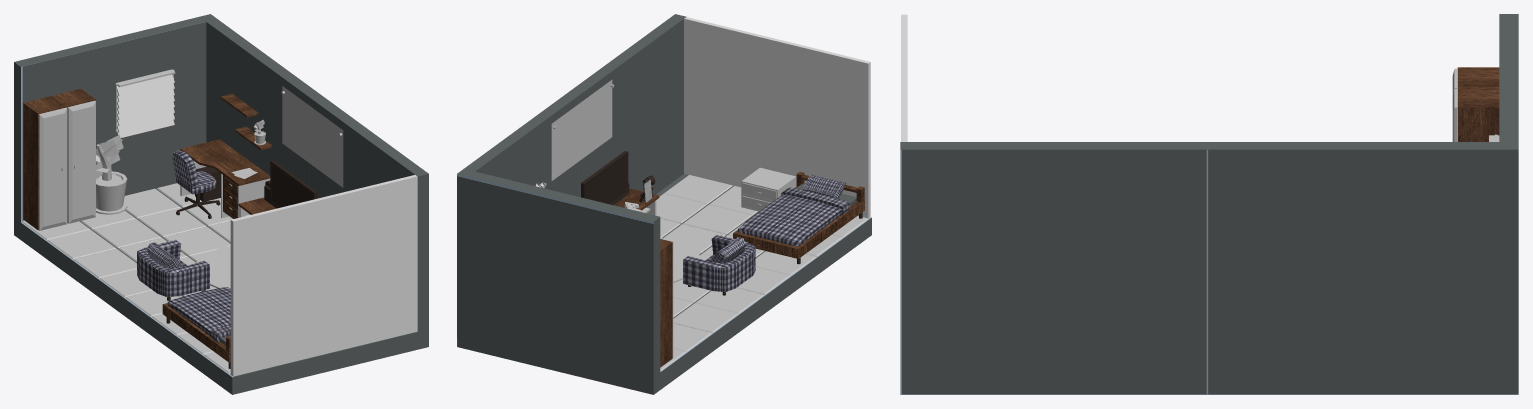
File: manRoom_last.FBX
The picture shows the model from 3 angles, left to right: view 1: azimuth 30°, elevation 25°; view 2: azimuth 150°, elevation 25°; view 3: azimuth 270°, elevation 25°; orthographic projection. The views are drawn at different scales.
Visible parts, largest first — view 1: tex1, mirror2, tex2, Door1, Door2; view 2: tex1, mirror2, tex2; view 3: tex1, mirror2.
Boxes of the visible parts, x1,y1,x2,y2 form: tex1: (14,14,428,394); mirror2: (230,175,417,376); tex2: (21,69,343,373); Door1: (38,107,67,230); Door2: (67,100,95,223); tex1: (457,14,871,394); mirror2: (684,17,870,218); tex2: (536,80,867,370); tex1: (900,14,1518,394); mirror2: (901,14,907,141).
Size of the model in its own units: 102 by 85.95 by 196.
